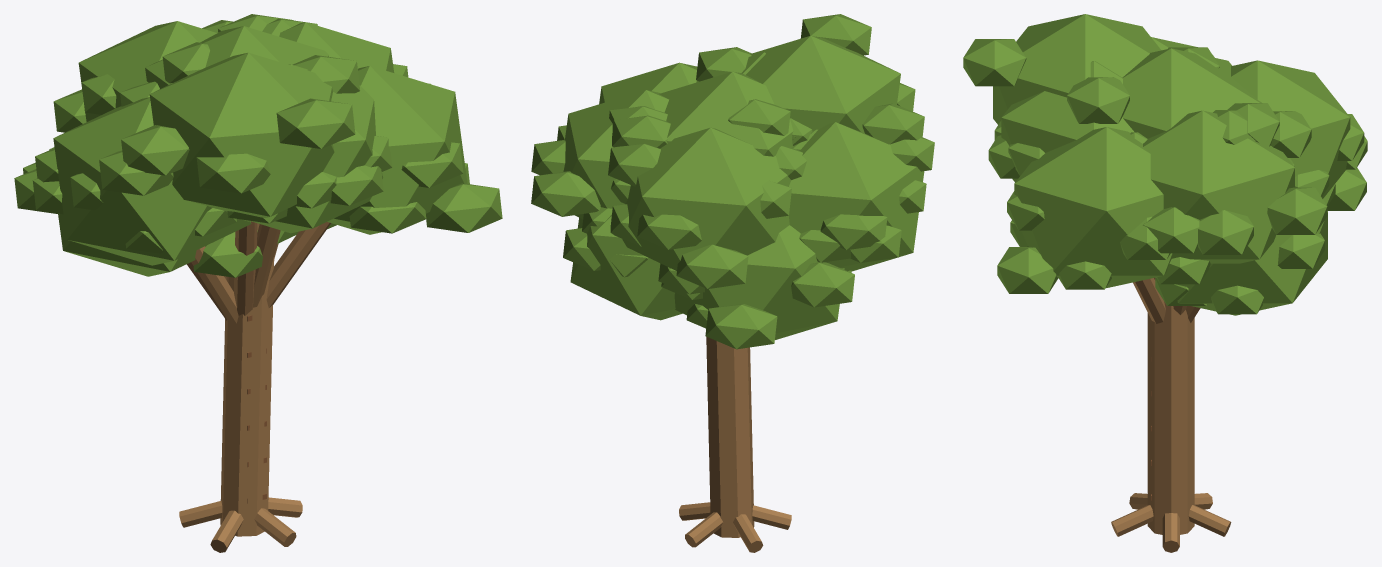
Rendered from tree_birch.glb.
3 renders of one model, left to right at view 1: azimuth 30°, elevation 25°; view 2: azimuth 150°, elevation 25°; view 3: azimuth 270°, elevation 25°, orthographic. The views are drawn at different scales.
Visible parts, largest first — view 1: tree_birch; view 2: tree_birch; view 3: tree_birch.
Boxes of the visible parts, x1,y1,x2,y2 form: tree_birch: (14, 14, 502, 552); tree_birch: (531, 14, 934, 552); tree_birch: (963, 14, 1367, 552).
Size of the model in its own units: 3.43 by 4.43 by 3.27.
